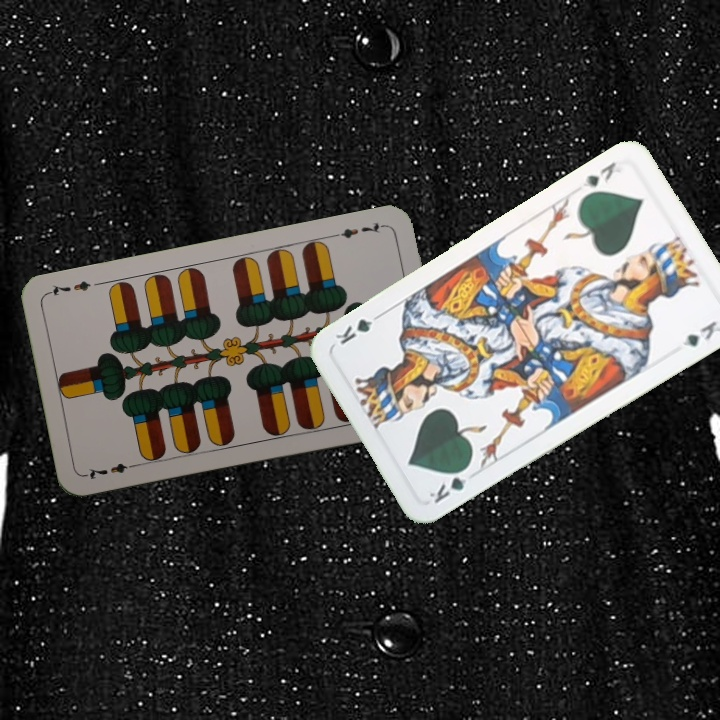E7: (81, 459, 140, 482), (329, 219, 388, 242)
GK: (425, 461, 473, 506), (578, 158, 627, 190)
